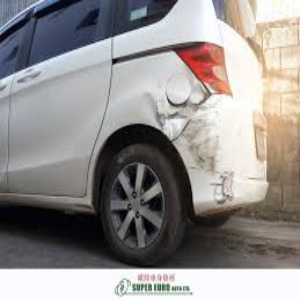bumper: (168, 103, 241, 209)
